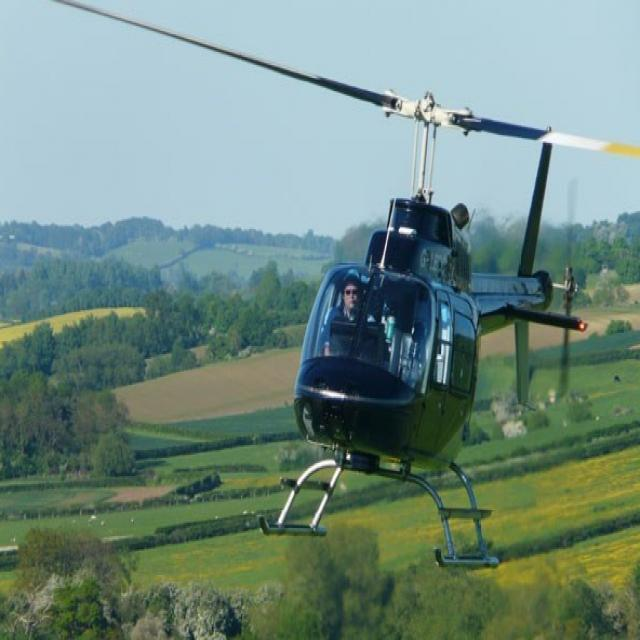helicopter: (173, 76, 539, 587)
